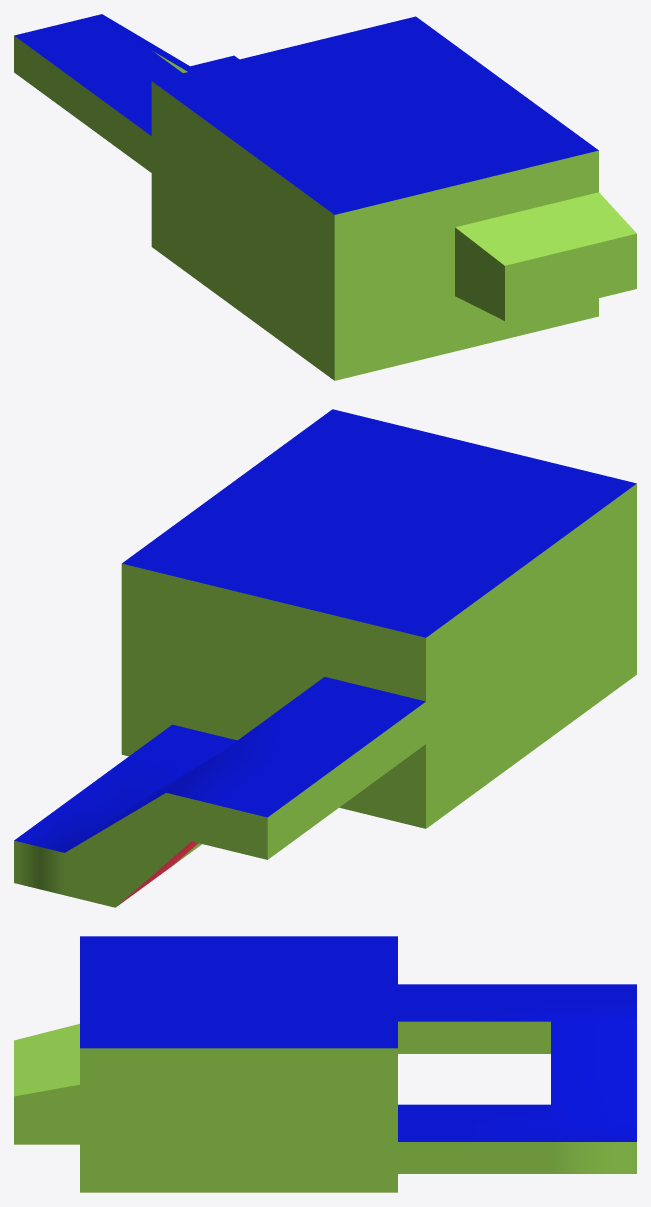
File: TestMap1.fbx
The picture shows the model from 3 angles, top to bottom: view 1: azimuth 30°, elevation 25°; view 2: azimuth 150°, elevation 25°; view 3: azimuth 270°, elevation 25°; orthographic projection. The views are drawn at different scales.
Parts seen in each view (by area): view 1: Cube; view 2: Cube; view 3: Cube.
Part boxes in pixels (left/top/right/bottom): Cube: left=14, top=14, right=636, bottom=380; Cube: left=14, top=409, right=636, bottom=907; Cube: left=14, top=936, right=636, bottom=1192.
Size of the model in its own units: 2500 by 1500 by 5876.
